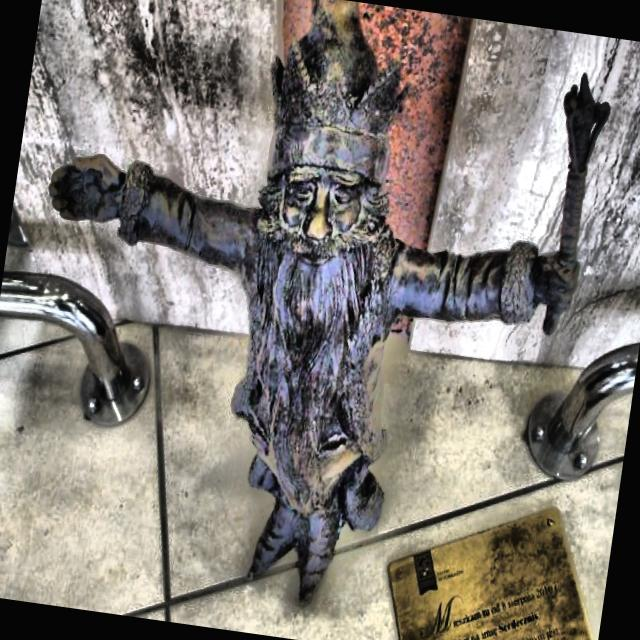Serdecznis: (50, 0, 609, 605)
